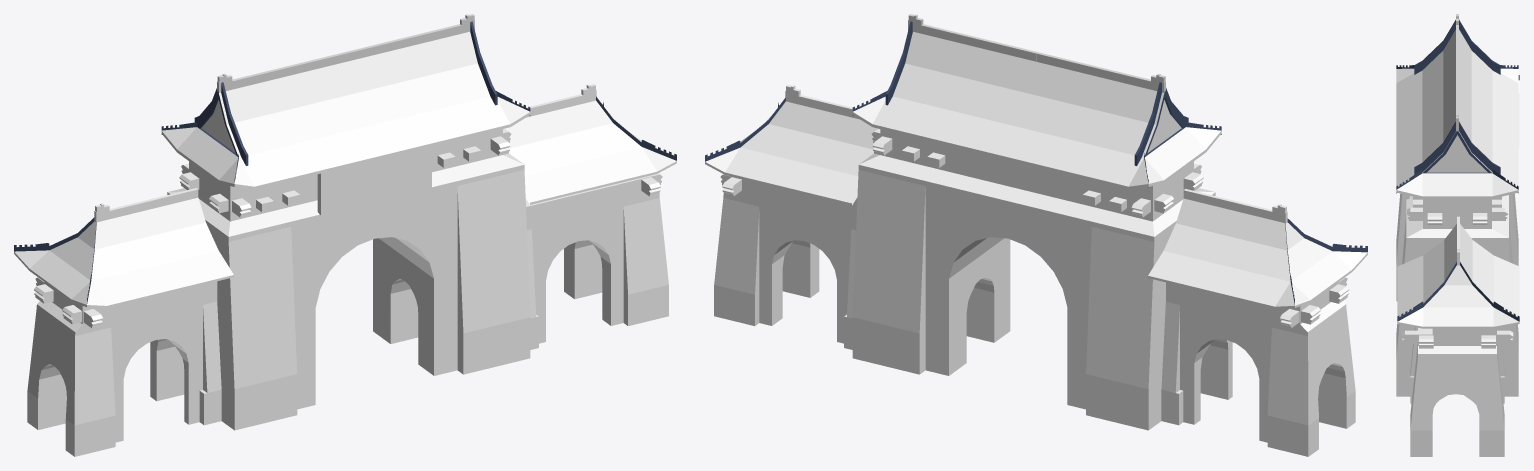
3 views of the same model, side by side, from view 1: azimuth 30°, elevation 25°; view 2: azimuth 150°, elevation 25°; view 3: azimuth 270°, elevation 25° (orthographic). The views are drawn at different scales.
Visible parts, largest first — view 1: skp517D_001, Component_001, Component#1_001; view 2: skp517D_001, Component#1_001, Component_001; view 3: skp517D_001, Component#1_001, Component_001.
Boxes of the visible parts, x1=… form: skp517D_001: x1=14, y1=21, x2=676, y2=456; Component_001: x1=217, y1=52, x2=346, y2=92; Component#1_001: x1=345, y1=14, x2=474, y2=61; skp517D_001: x1=705, y1=21, x2=1367, y2=456; Component#1_001: x1=908, y1=14, x2=1037, y2=61; Component_001: x1=1036, y1=52, x2=1165, y2=92; skp517D_001: x1=1396, y1=19, x2=1519, y2=456; Component#1_001: x1=1456, y1=72, x2=1458, y2=131; Component_001: x1=1456, y1=14, x2=1458, y2=71.
Size of the model in its own units: 17343 by 9066 by 3744.
